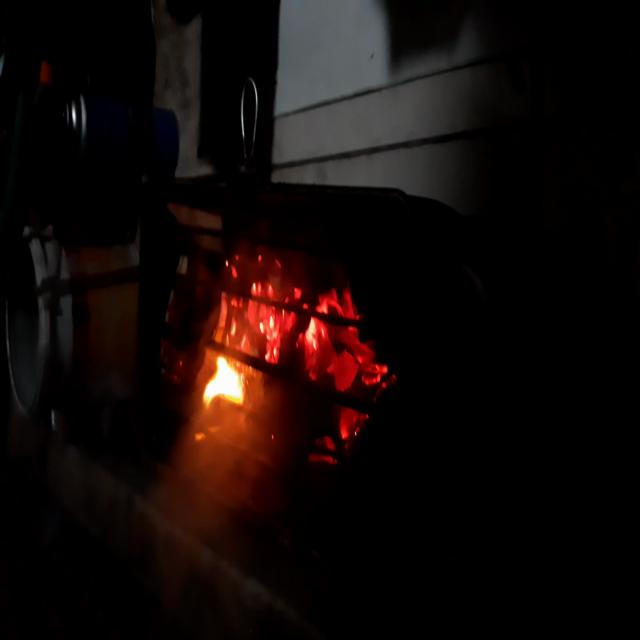Fire: (209, 227, 417, 361), (322, 362, 388, 458), (185, 356, 254, 446)
